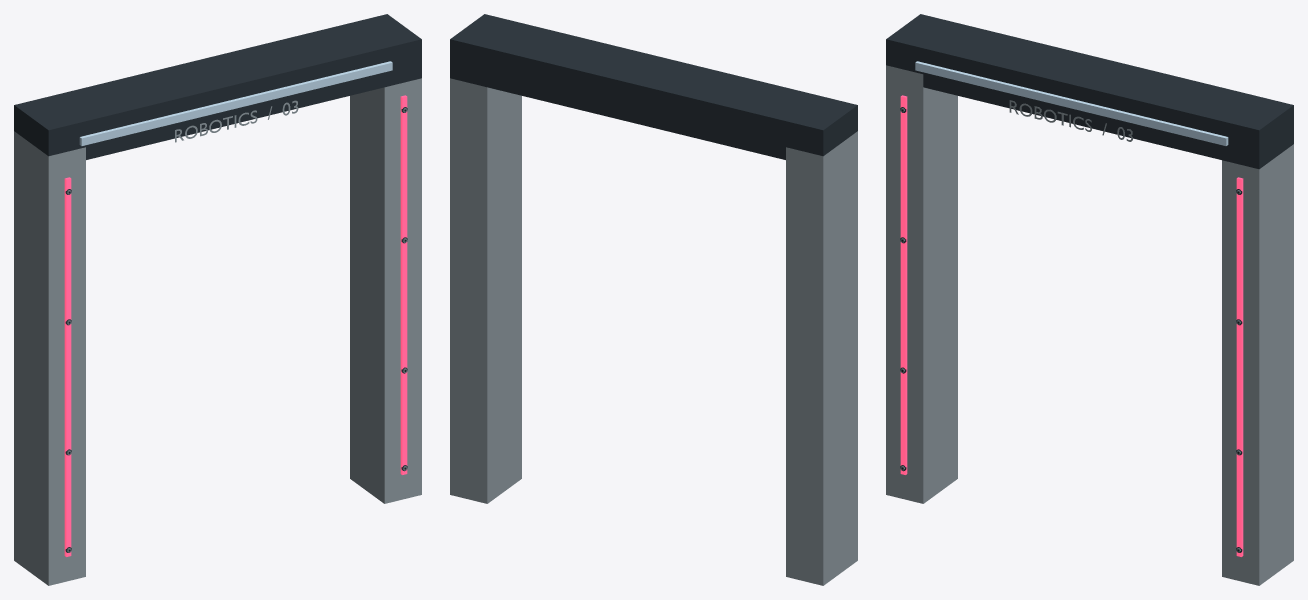
Rendered from SM_Lab_DoorPortal.fbx.
3 views of the same model, side by side, from view 1: azimuth 30°, elevation 25°; view 2: azimuth 150°, elevation 25°; view 3: azimuth 330°, elevation 25° (orthographic).
Parts seen in each view (by area): view 1: SM_Lab_DoorPortal; view 2: SM_Lab_DoorPortal; view 3: SM_Lab_DoorPortal.
Part boxes in pixels (x1,y1,x2,y2): SM_Lab_DoorPortal: [14, 14, 421, 585]; SM_Lab_DoorPortal: [450, 14, 857, 585]; SM_Lab_DoorPortal: [886, 14, 1293, 585].
Size of the model in its own units: 300 by 51.25 by 350.
